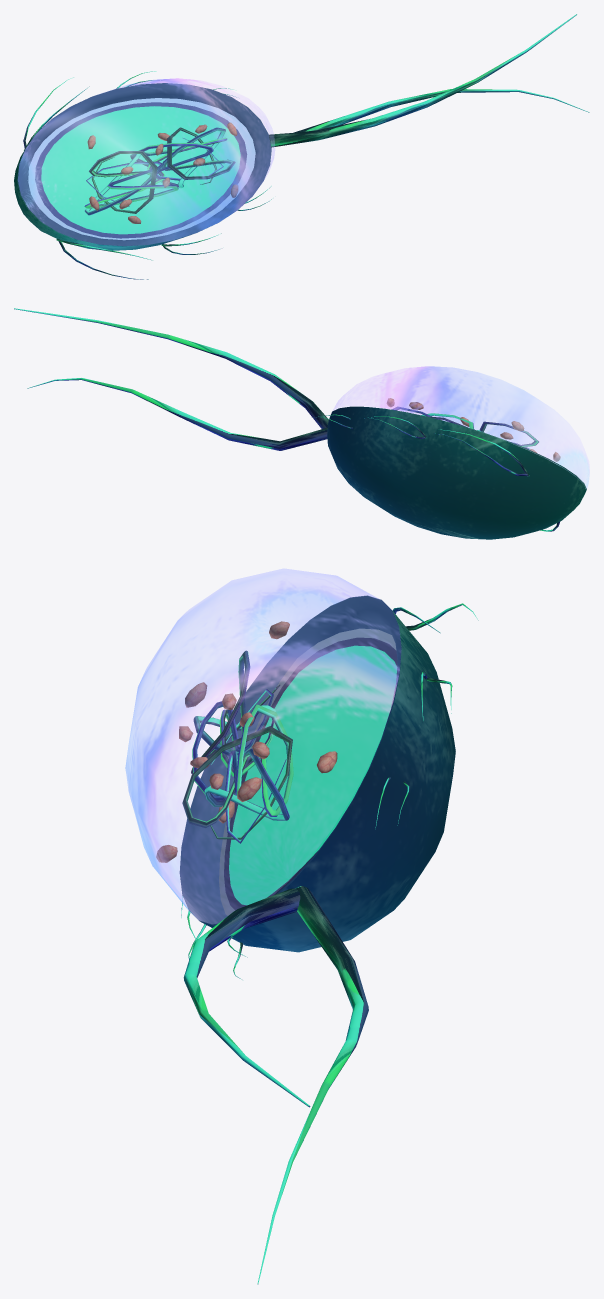
Rendered from NASA-Fase03.gltf.
The picture shows the model from 3 angles, top to bottom: view 1: azimuth 30°, elevation 25°; view 2: azimuth 150°, elevation 25°; view 3: azimuth 270°, elevation 25°; orthographic projection. The views are drawn at different scales.
Parts seen in each view (by area): view 1: Sphere.006, Sphere.005, Sphere.004, BezierCurve.003, BezierCurve.004, BezierCurve.011, Icosphere.003, Icosphere.004; view 2: Sphere.004, Sphere.006, BezierCurve.003, BezierCurve.011; view 3: Sphere.006, Sphere.004, Sphere.005, BezierCurve.003, BezierCurve.011, BezierCurve.004, Icosphere.004, Icosphere.003.
Part boxes in pixels (left/top/right/bottom): Sphere.006: left=18, top=78, right=274, bottom=245; Sphere.005: left=27, top=98, right=255, bottom=240; Sphere.004: left=14, top=83, right=271, bottom=250; BezierCurve.003: left=23, top=14, right=589, bottom=279; BezierCurve.004: left=84, top=151, right=178, bottom=215; BezierCurve.011: left=139, top=127, right=235, bottom=188; Icosphere.003: left=87, top=135, right=163, bottom=223; Icosphere.004: left=157, top=122, right=238, bottom=197; Sphere.004: left=327, top=406, right=586, bottom=539; Sphere.006: left=333, top=366, right=589, bottom=488; BezierCurve.003: left=14, top=308, right=559, bottom=531; BezierCurve.011: left=391, top=407, right=474, bottom=429; Sphere.006: left=125, top=568, right=400, bottom=923; Sphere.004: left=179, top=595, right=455, bottom=952; Sphere.005: left=219, top=628, right=397, bottom=915; BezierCurve.003: left=181, top=603, right=478, bottom=1284; BezierCurve.011: left=182, top=704, right=293, bottom=843; BezierCurve.004: left=191, top=650, right=280, bottom=800; Icosphere.004: left=156, top=741, right=337, bottom=862; Icosphere.003: left=179, top=621, right=289, bottom=823.
Bounding box in the file's own units: 82.14 × 23.04 × 22.38.
Materials: 5 (3 with a texture image).
